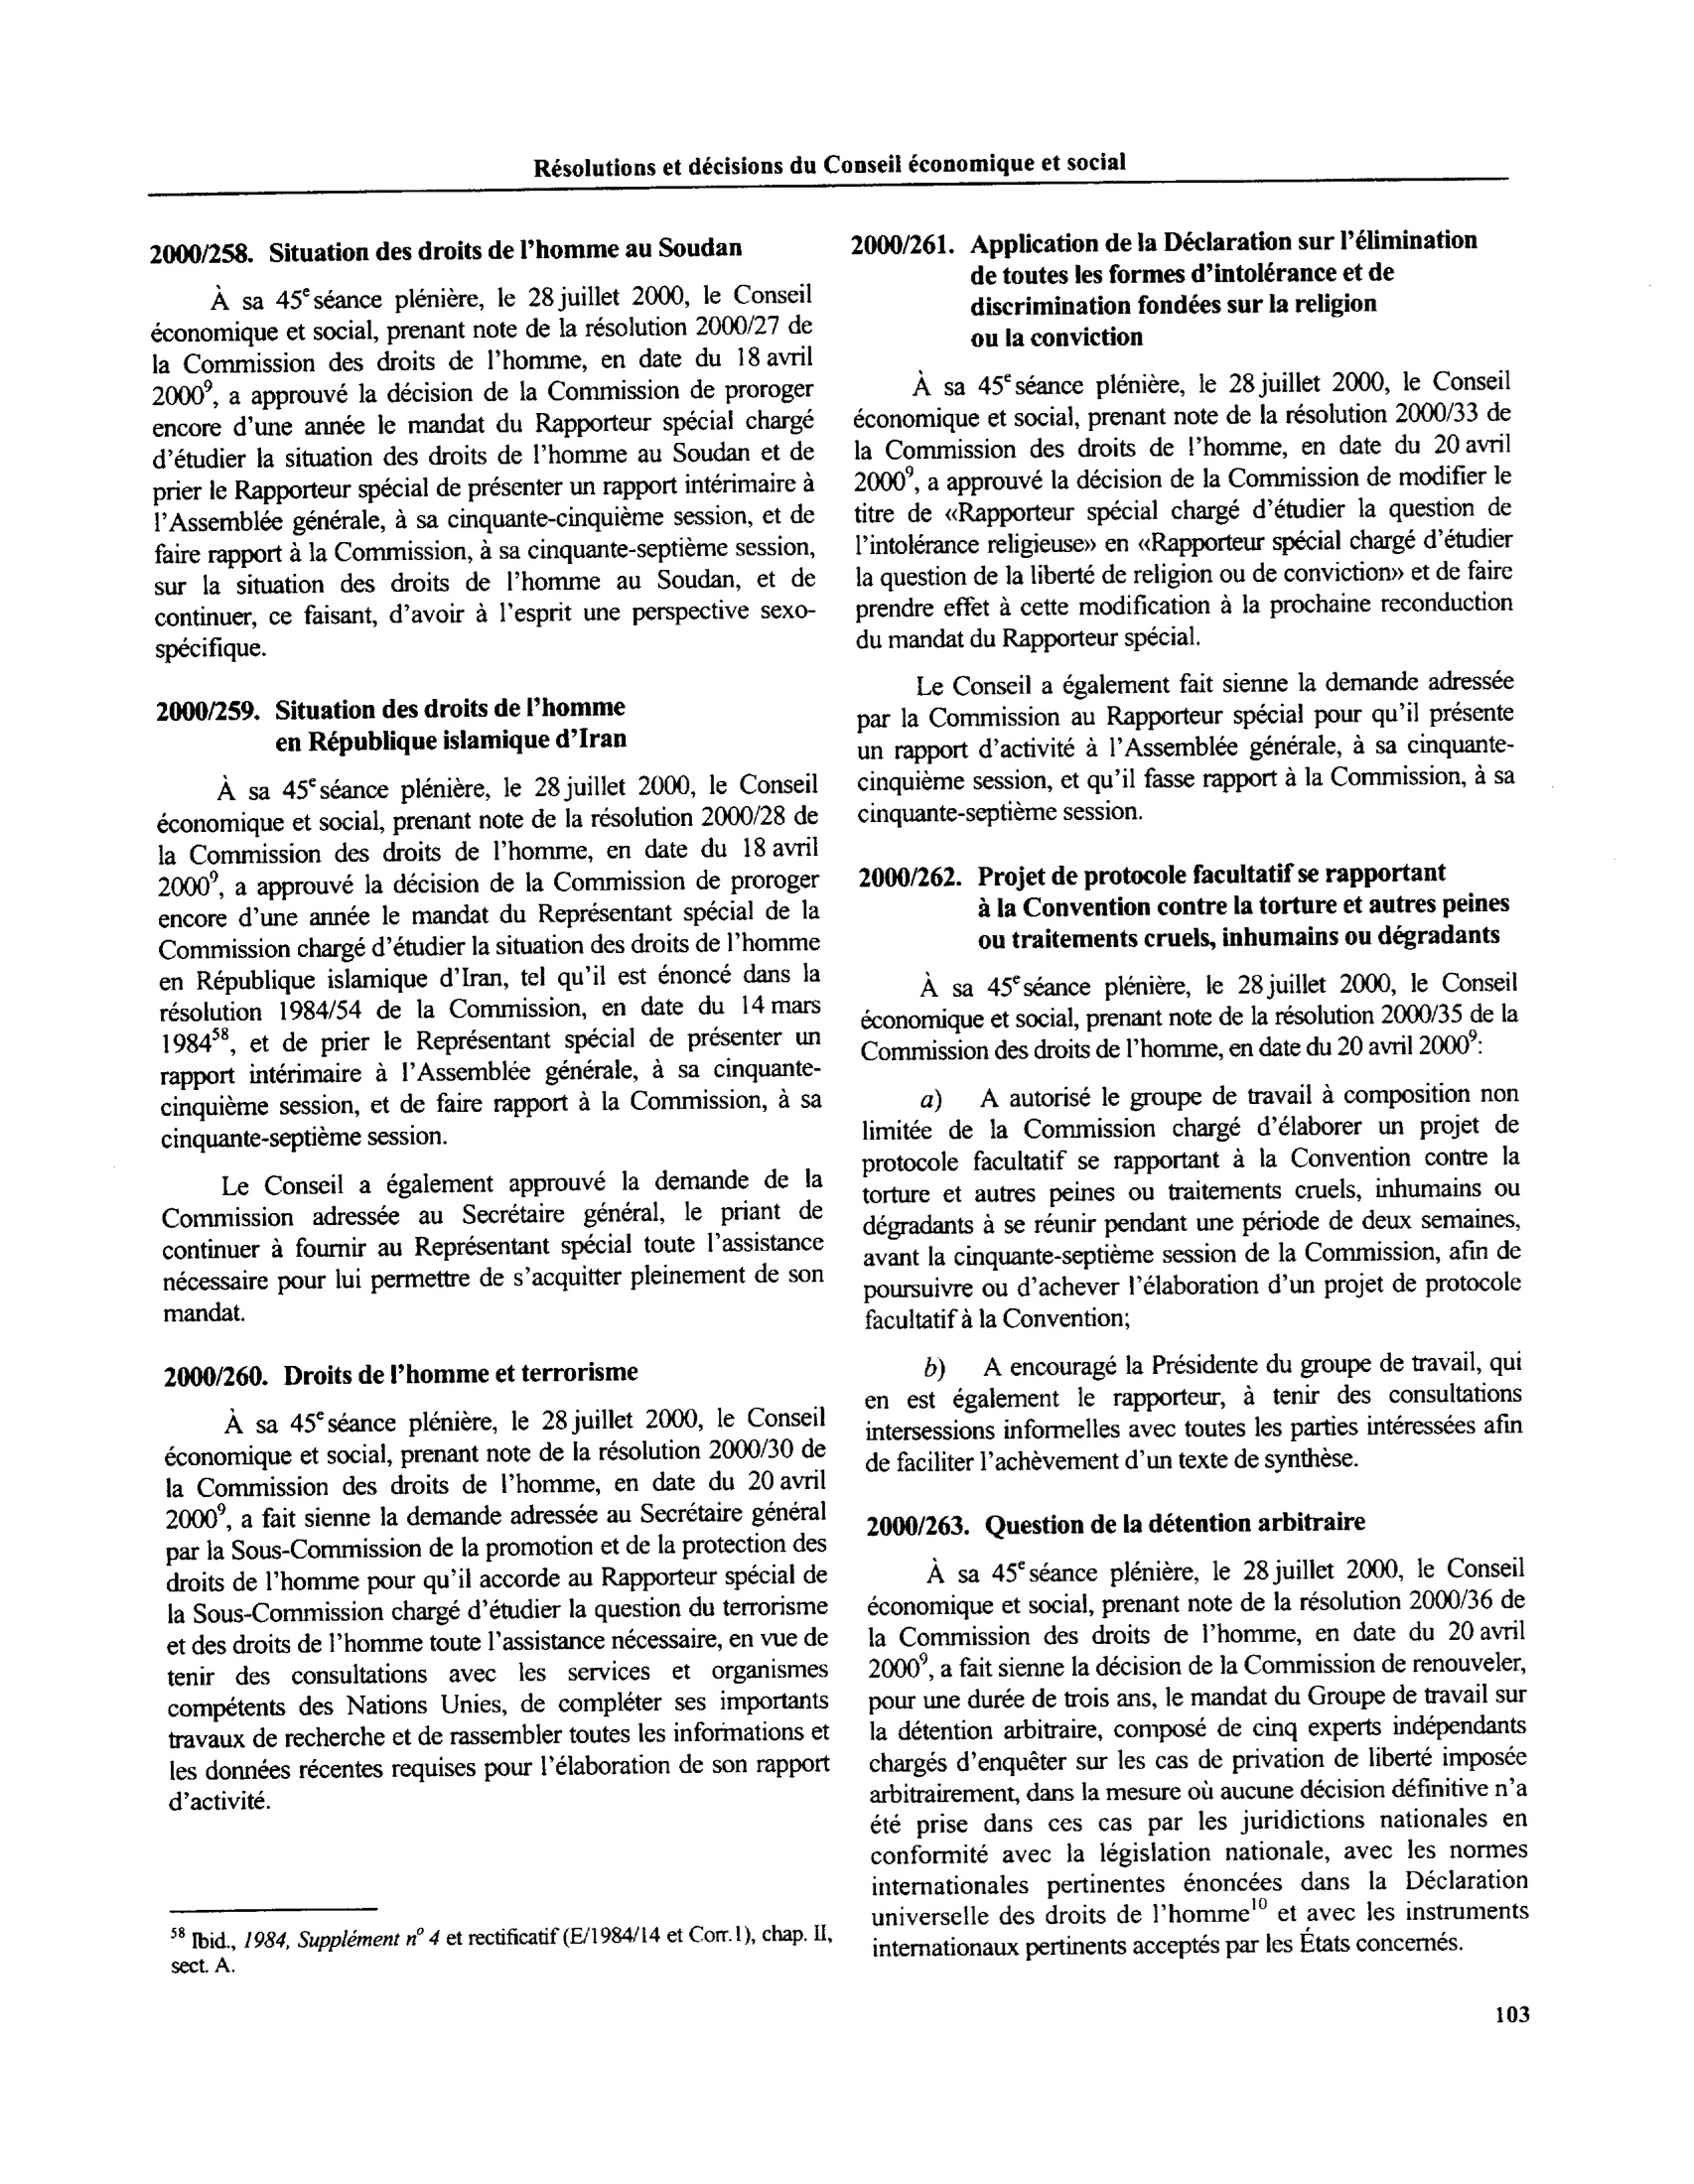MainZone-Head: (842, 220, 1486, 353), (854, 856, 1517, 954), (150, 690, 635, 759), (143, 226, 753, 268), (861, 1503, 1373, 1540), (159, 1356, 644, 1392)
MainZone-ListItem: (856, 1078, 1527, 1335), (858, 1347, 1529, 1478)
MainZone-P: (156, 1402, 837, 1823), (860, 1553, 1535, 1967), (142, 277, 825, 668), (148, 767, 829, 1155), (845, 363, 1518, 653), (155, 1165, 831, 1330), (849, 668, 1522, 831), (853, 966, 1523, 1068)
MarginTextZone-Notes: (158, 1914, 837, 1991)
NumberingZone: (1487, 1994, 1537, 2036)
RunningTitleZone: (522, 141, 1136, 191)
